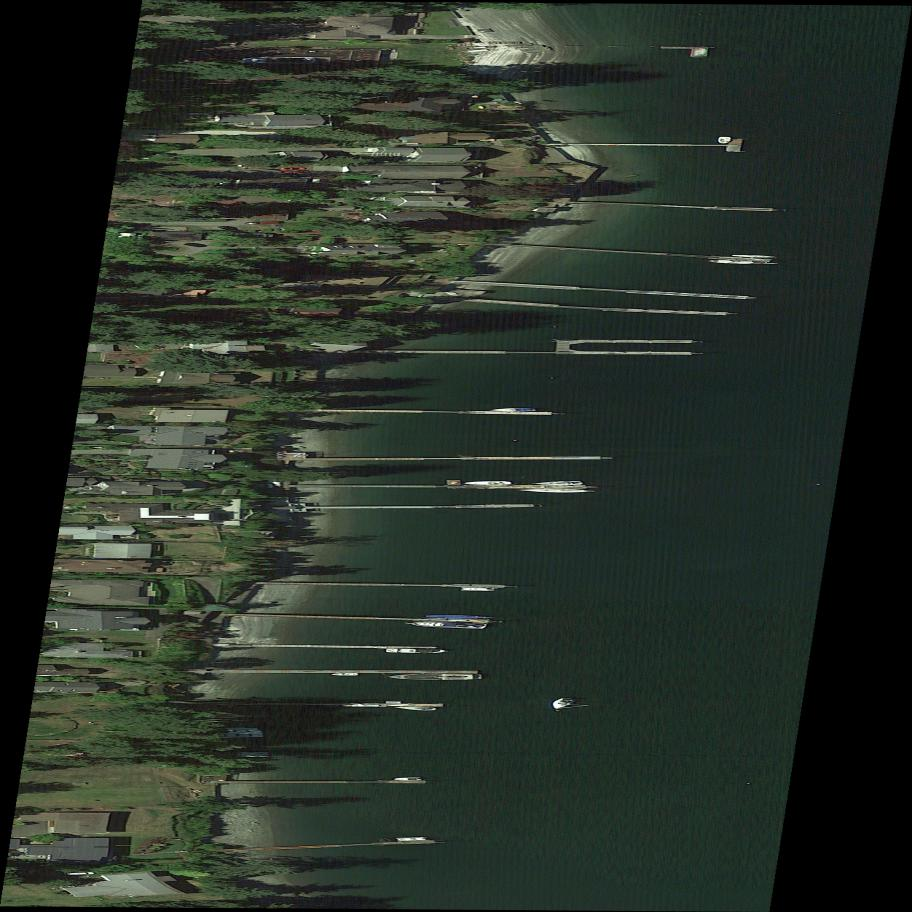ship: (380, 673, 483, 681), (404, 621, 488, 630), (545, 696, 586, 711), (702, 259, 779, 266), (385, 648, 452, 655), (240, 57, 315, 63), (516, 489, 597, 493), (530, 481, 587, 486), (422, 615, 493, 619), (461, 480, 514, 485), (729, 254, 779, 259), (488, 407, 536, 412), (393, 707, 441, 711), (458, 587, 500, 591), (391, 776, 430, 780), (394, 837, 429, 841), (716, 136, 733, 144), (329, 673, 360, 676)
small-vehicle: (219, 224, 241, 233), (183, 242, 209, 249), (66, 872, 95, 875), (283, 171, 309, 173), (280, 168, 305, 170)
